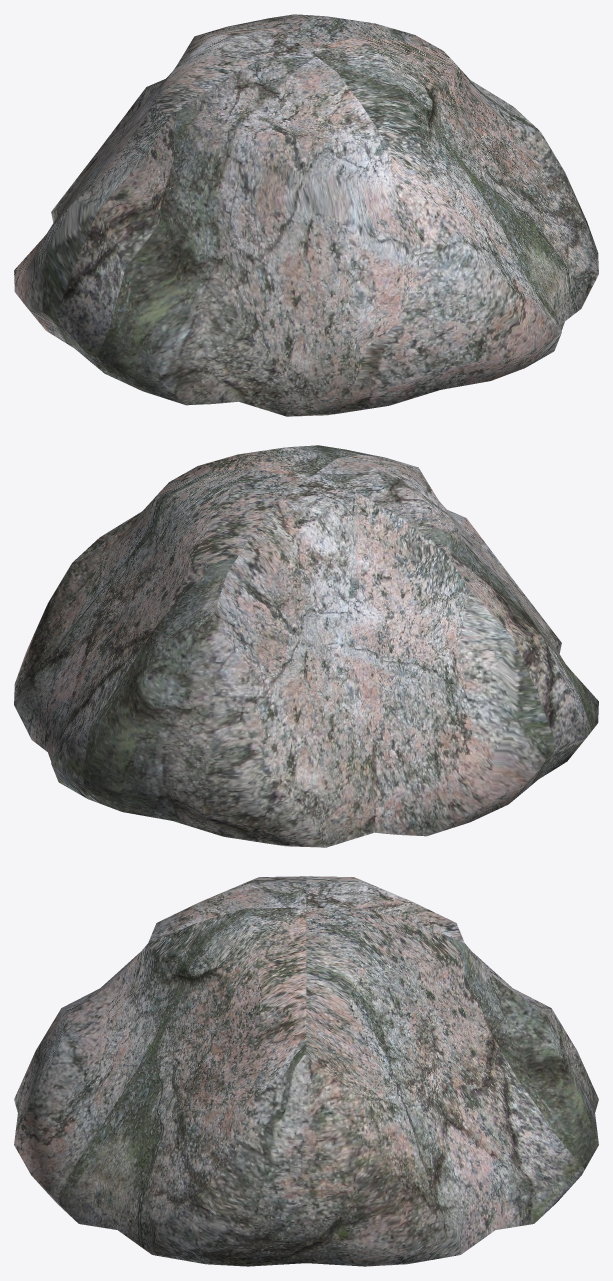
File: stein4.DAE
3 views of the same model, one above another, from view 1: azimuth 30°, elevation 25°; view 2: azimuth 150°, elevation 25°; view 3: azimuth 270°, elevation 25° (orthographic).
Visible parts, largest first — view 1: Geosph_re001; view 2: Geosph_re001; view 3: Geosph_re001.
Part boxes in pixels (x1=…): Geosph_re001: x1=14, y1=14, x2=598, y2=416; Geosph_re001: x1=14, y1=445, x2=598, y2=847; Geosph_re001: x1=14, y1=876, x2=598, y2=1266.
Bounding box in the file's own units: 44.61 × 44.61 × 22.5.
